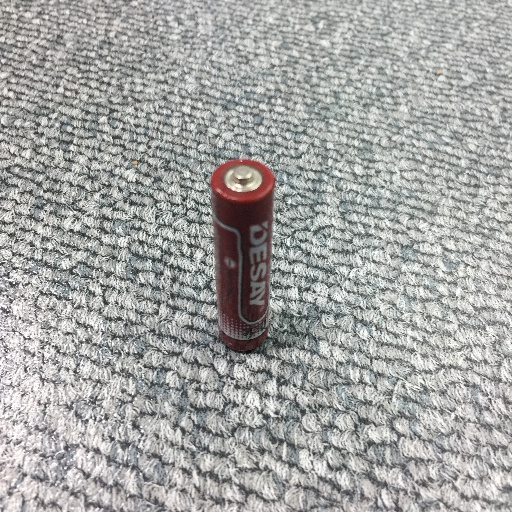Battery_0: (196, 152, 283, 363)
